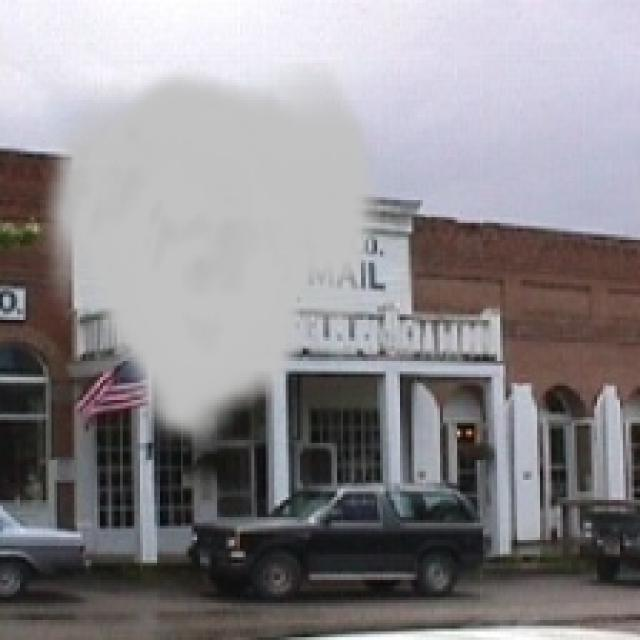smoke: (34, 63, 383, 448)
